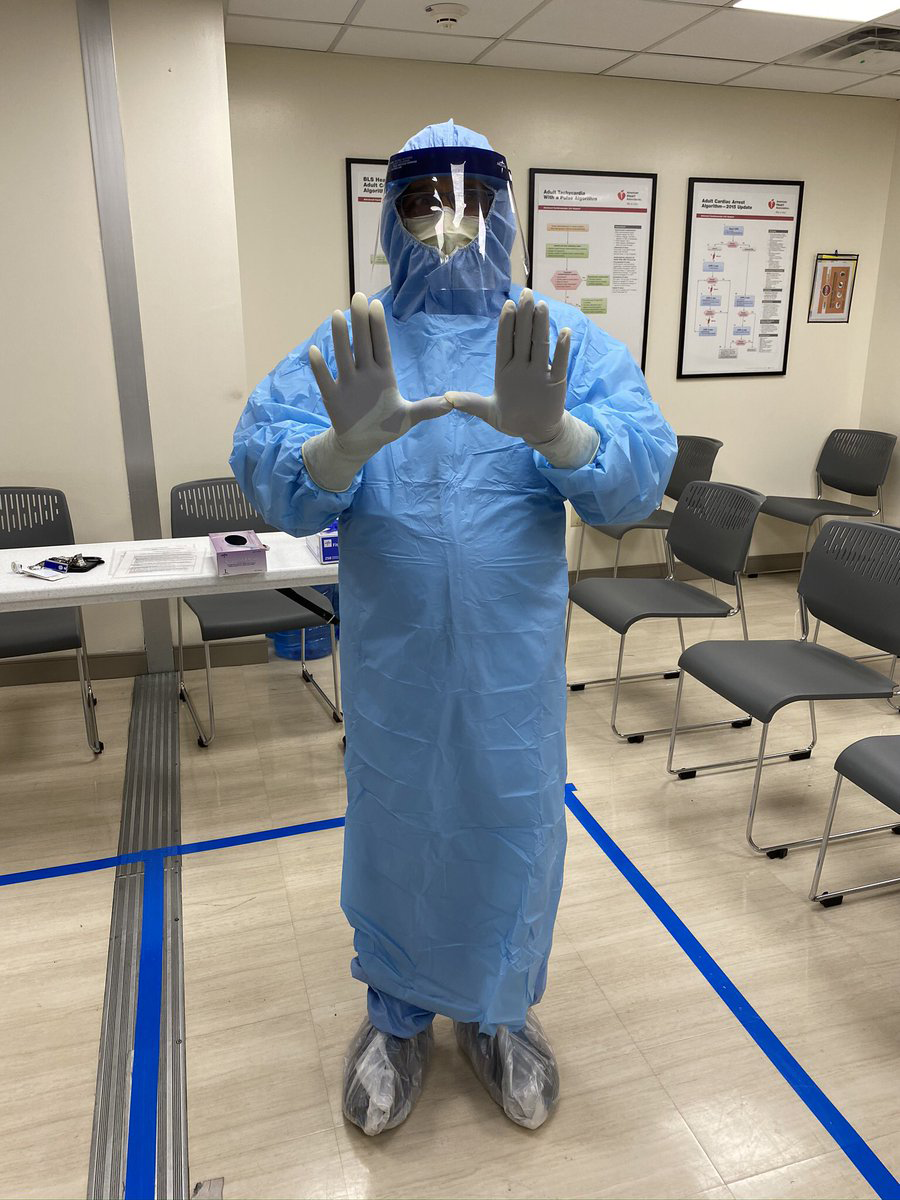Coverall: (308, 288, 594, 1026)
Gloves: (446, 287, 602, 475), (303, 298, 445, 476)
with_mask: (403, 187, 498, 268)
